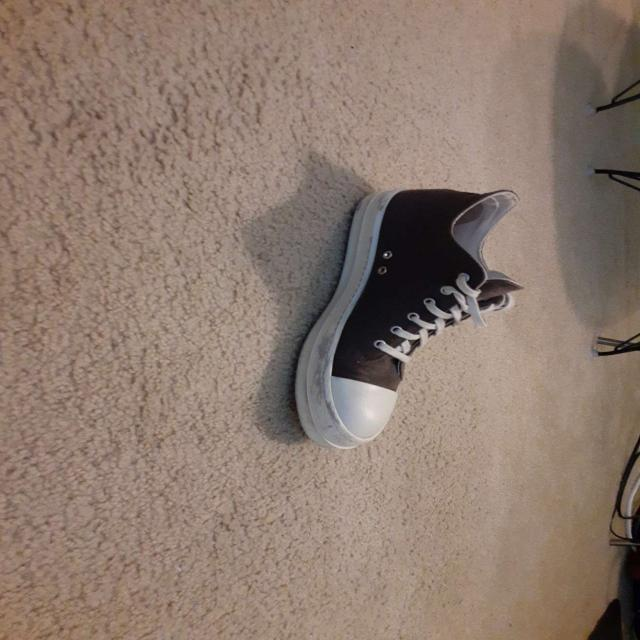shoe: (292, 187, 525, 450)
